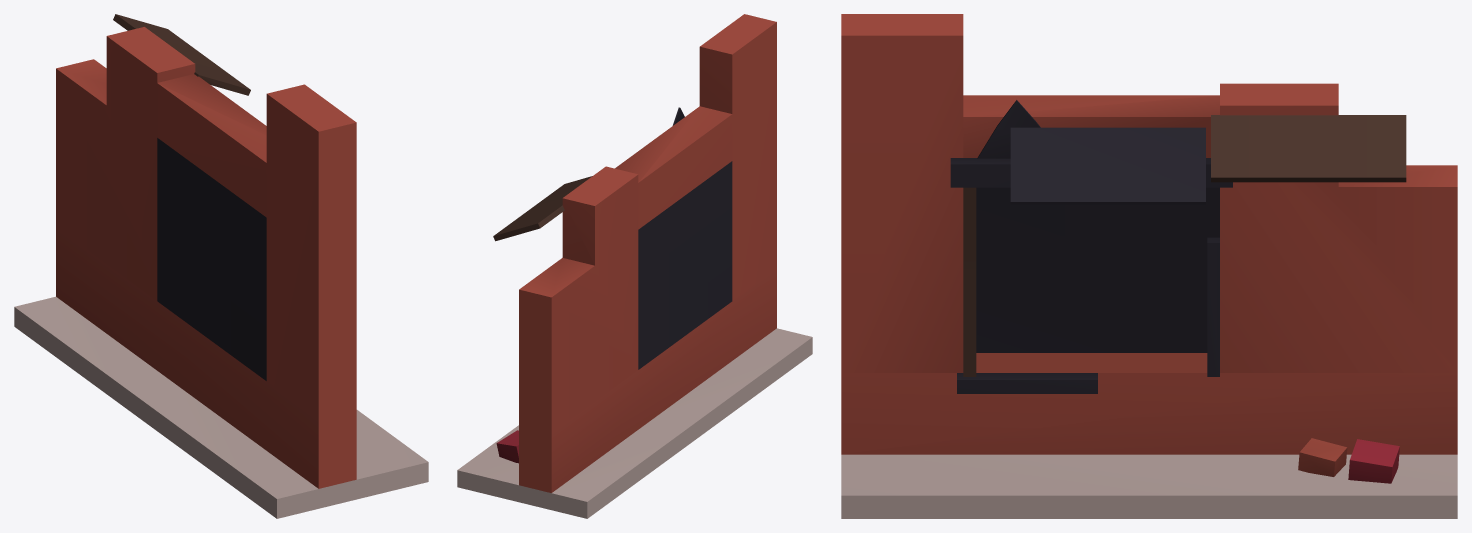
Rendered from decay.burned-facade.lod2.glb.
3 renders of one model, left to right at view 1: azimuth 30°, elevation 25°; view 2: azimuth 150°, elevation 25°; view 3: azimuth 270°, elevation 25°, orthographic. The views are drawn at different scales.
Parts seen in each view (by area): view 1: body; view 2: body; view 3: body.
Part boxes in pixels (x1,y1,x2,y2): body: (14,14,428,518); body: (457,14,812,518); body: (841,14,1457,518).
Size of the model in its own units: 1.6 by 3.8 by 4.8.
